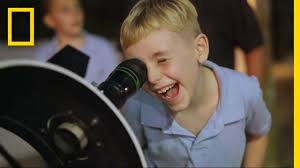no-mask: (120, 15, 209, 116)
